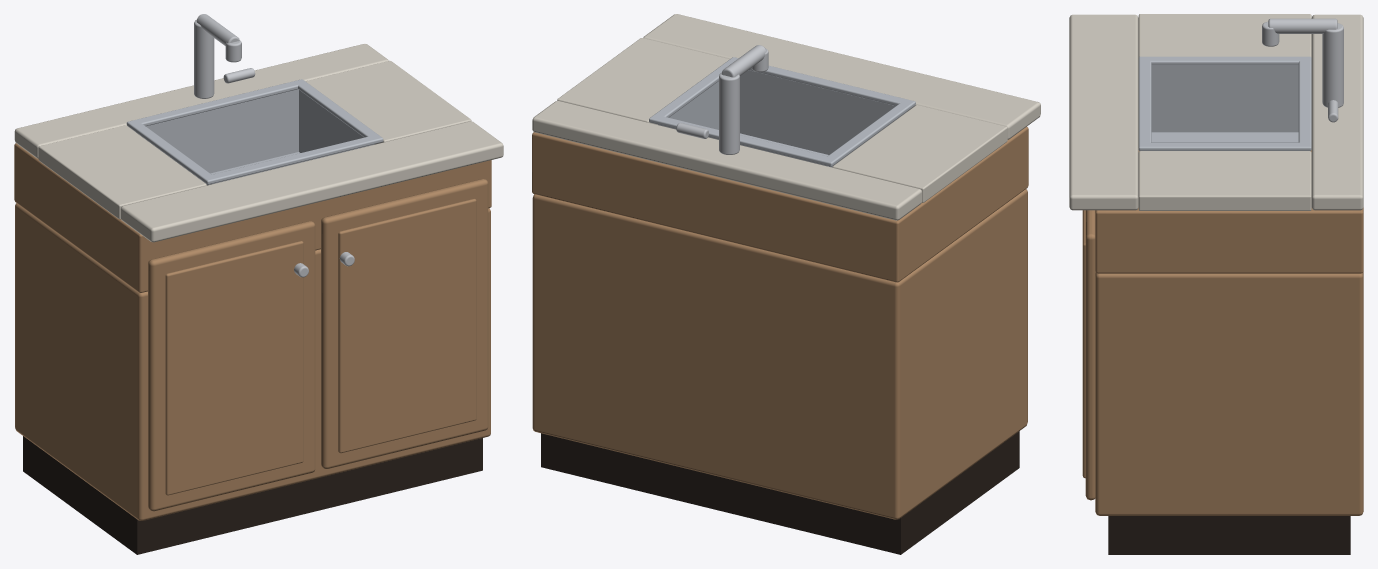
File: kitchen_sink.glb
3 views of the same model, side by side, from view 1: azimuth 30°, elevation 25°; view 2: azimuth 150°, elevation 25°; view 3: azimuth 270°, elevation 25° (orthographic). The views are drawn at different scales.
Visible parts, largest first — view 1: Cube.001, Cube.007, Cube.009, Cube.011, Cube, Cube.008, Cube.006, Cube.012, Cube.019, Cube.010, Cube.004, Cube.013 (+8 smaller); view 2: Cube.001, Cube.003, Cube, Cube.010, Cube.011, Cube.012, Cube.020, Cube.004, Cube.013, Cylinder.003, Cube.015, Cube.014 (+4 smaller); view 3: Cube.001, Cube.005, Cube.011, Cube.013, Cube.021, Cube, Cube.010, Cube.012, Cube.008, Cylinder.003, Cube.018, Cube.016 (+7 smaller).
Part boxes in pixels (x1=…): Cube.001: x1=15, y1=203, x2=490, y2=520; Cube.007: x1=165, y1=241, x2=303, y2=495; Cube.009: x1=338, y1=199, x2=476, y2=453; Cube.011: x1=120, y1=121, x2=503, y2=242; Cube: x1=23, y1=436, x2=482, y2=554; Cube.008: x1=321, y1=179, x2=488, y2=468; Cube.006: x1=148, y1=221, x2=315, y2=511; Cube.012: x1=38, y1=125, x2=206, y2=219; Cube.019: x1=146, y1=89, x2=298, y2=173; Cube.010: x1=14, y1=44, x2=388, y2=158; Cube.004: x1=14, y1=143, x2=147, y2=292; Cube.013: x1=306, y1=60, x2=471, y2=144; Cube.001: x1=532, y1=189, x2=1027, y2=519; Cube.003: x1=532, y1=133, x2=903, y2=282; Cube: x1=541, y1=431, x2=1019, y2=554; Cube.010: x1=532, y1=101, x2=922, y2=220; Cube.011: x1=643, y1=14, x2=1040, y2=139; Cube.012: x1=832, y1=105, x2=1007, y2=202; Cube.020: x1=740, y1=70, x2=895, y2=154; Cube.004: x1=889, y1=127, x2=1026, y2=282; Cube.013: x1=557, y1=38, x2=729, y2=124; Cylinder.003: x1=719, y1=73, x2=739, y2=154; Cube.015: x1=730, y1=57, x2=913, y2=105; Cube.014: x1=649, y1=115, x2=837, y2=166; Cube.001: x1=1095, y1=150, x2=1363, y2=515; Cube.005: x1=1095, y1=208, x2=1363, y2=273; Cube.011: x1=1069, y1=14, x2=1138, y2=210; Cube.013: x1=1138, y1=151, x2=1311, y2=210; Cube.021: x1=1151, y1=65, x2=1298, y2=132; Cube: x1=1108, y1=516, x2=1350, y2=554; Cube.010: x1=1311, y1=14, x2=1363, y2=210; Cube.012: x1=1138, y1=14, x2=1311, y2=57; Cube.008: x1=1085, y1=210, x2=1095, y2=500; Cylinder.003: x1=1322, y1=23, x2=1343, y2=107; Cube.018: x1=1151, y1=132, x2=1298, y2=142; Cube.016: x1=1139, y1=56, x2=1311, y2=65.
Bounding box in the file's own units: 1 × 1.14 × 0.68.
